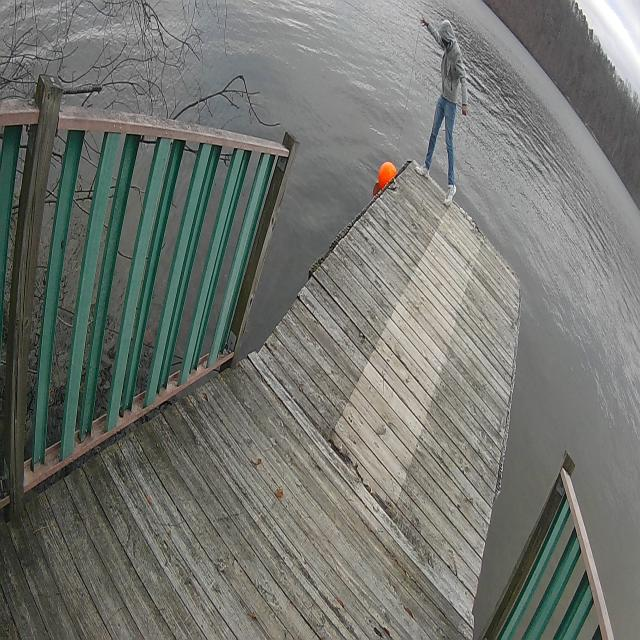Buoy: (372, 146, 399, 206)
